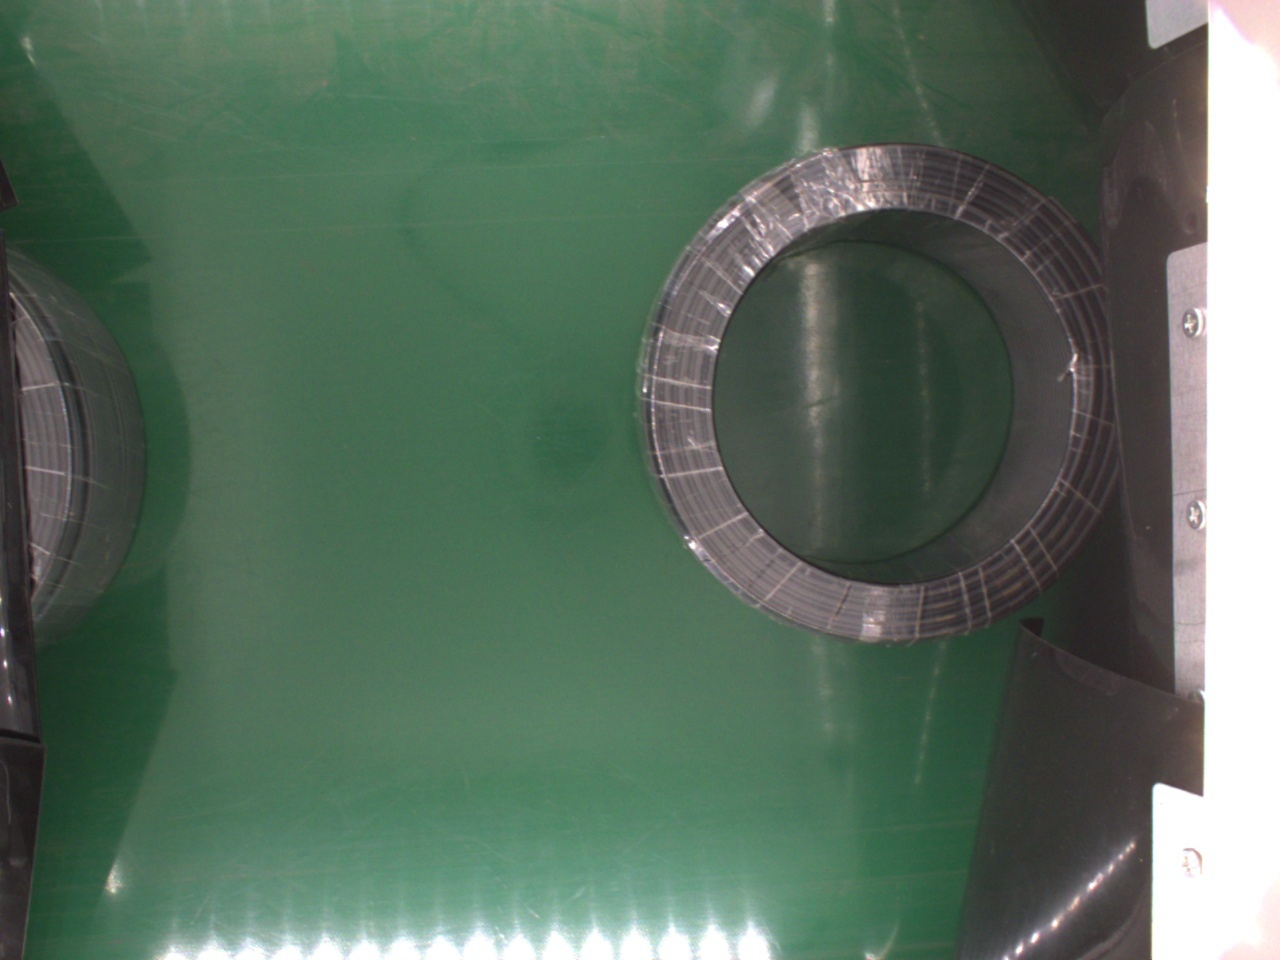black: (629, 141, 1118, 644), (4, 253, 147, 631)
